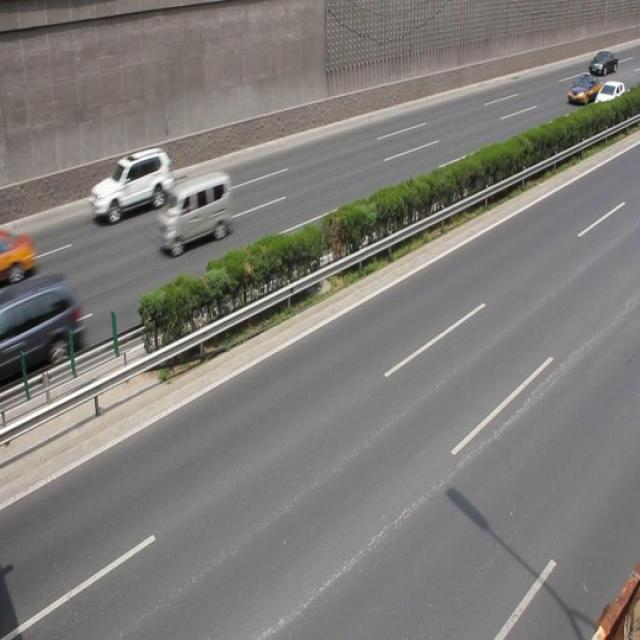car: (1, 283, 83, 394), (89, 144, 174, 228), (565, 71, 601, 104), (592, 80, 623, 116)
truck: (156, 170, 231, 257)
